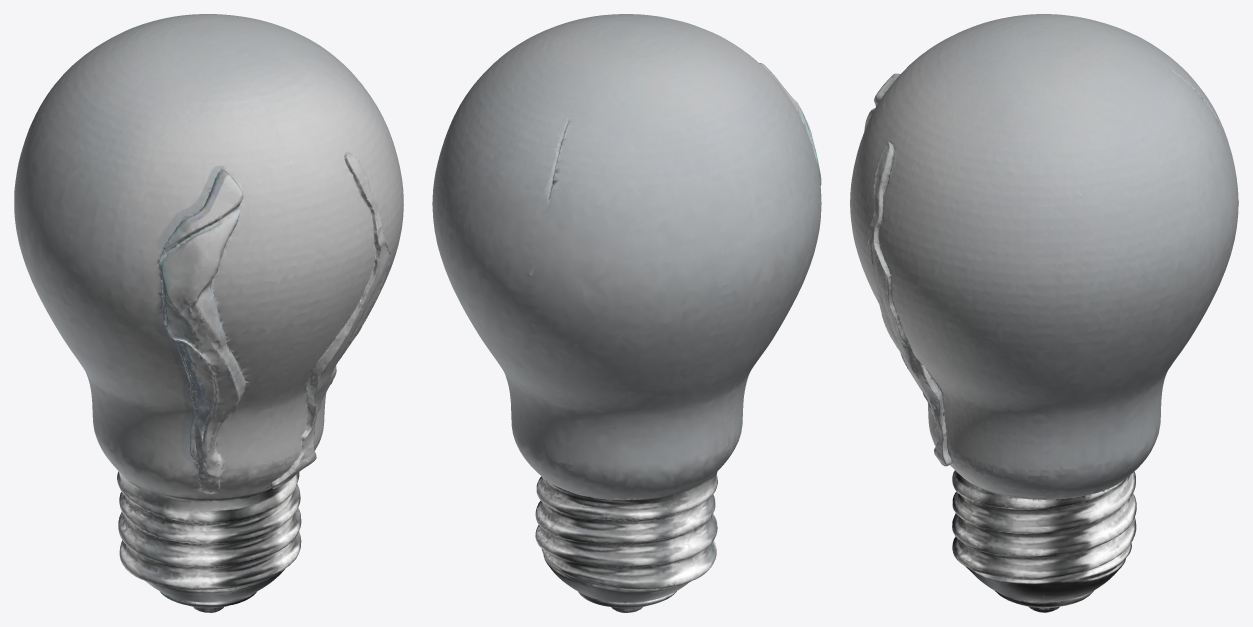
The model's file is bombilla-optim-CggB6P2V.glb.
The picture shows the model from 3 angles, left to right: view 1: azimuth 30°, elevation 25°; view 2: azimuth 150°, elevation 25°; view 3: azimuth 270°, elevation 25°; orthographic projection.
Visible parts, largest first — view 1: tmpgo2old0iobj; view 2: tmpgo2old0iobj; view 3: tmpgo2old0iobj.
Part boxes in pixels (left/top/right/bottom): tmpgo2old0iobj: left=14, top=14, right=403, bottom=612; tmpgo2old0iobj: left=432, top=14, right=821, bottom=612; tmpgo2old0iobj: left=850, top=14, right=1238, bottom=612.
Size of the model in its own units: 0.6162 by 1 by 0.6168.
1 material, 1 textured.
